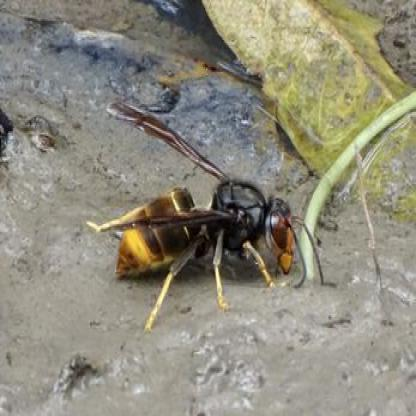Asian Hornet: (98, 100, 304, 337)
